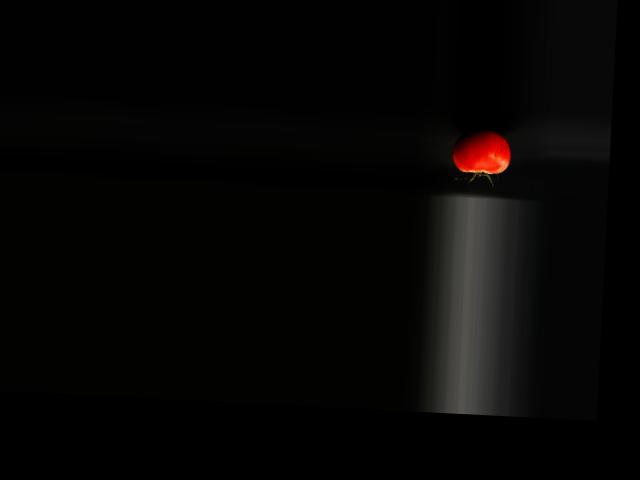tomato: (452, 128, 512, 174)
